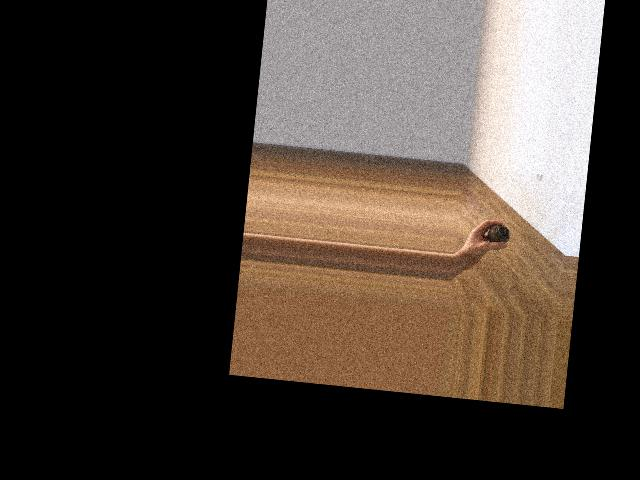beet: (486, 223, 511, 254)
